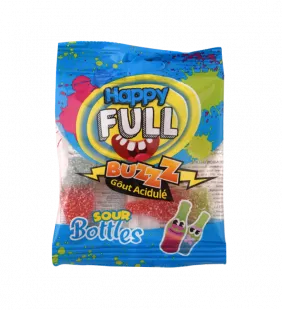HAPPY FULL: (44, 35, 236, 276)
